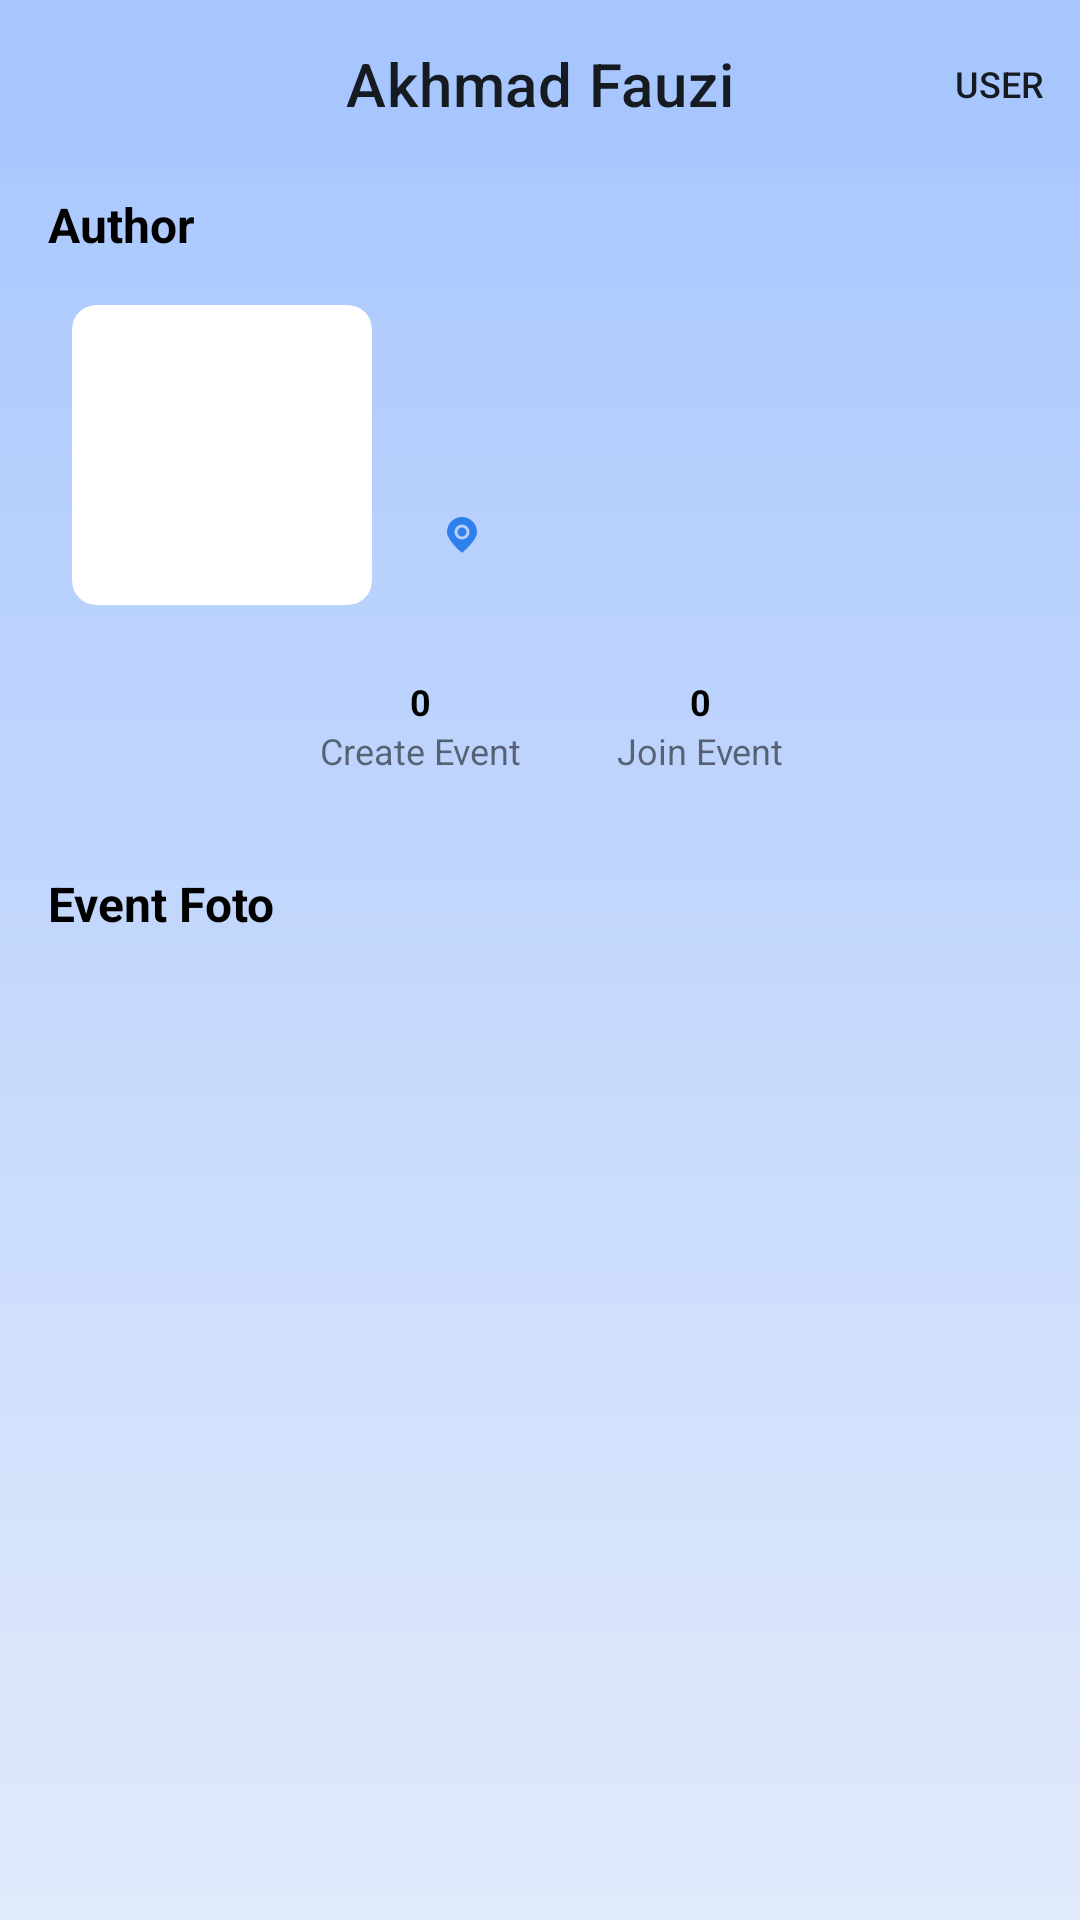

Icons on this 1080*1920 Android screen, each with its box as [x1, y1, x2, y2]:
marker: [447, 517, 477, 553]
